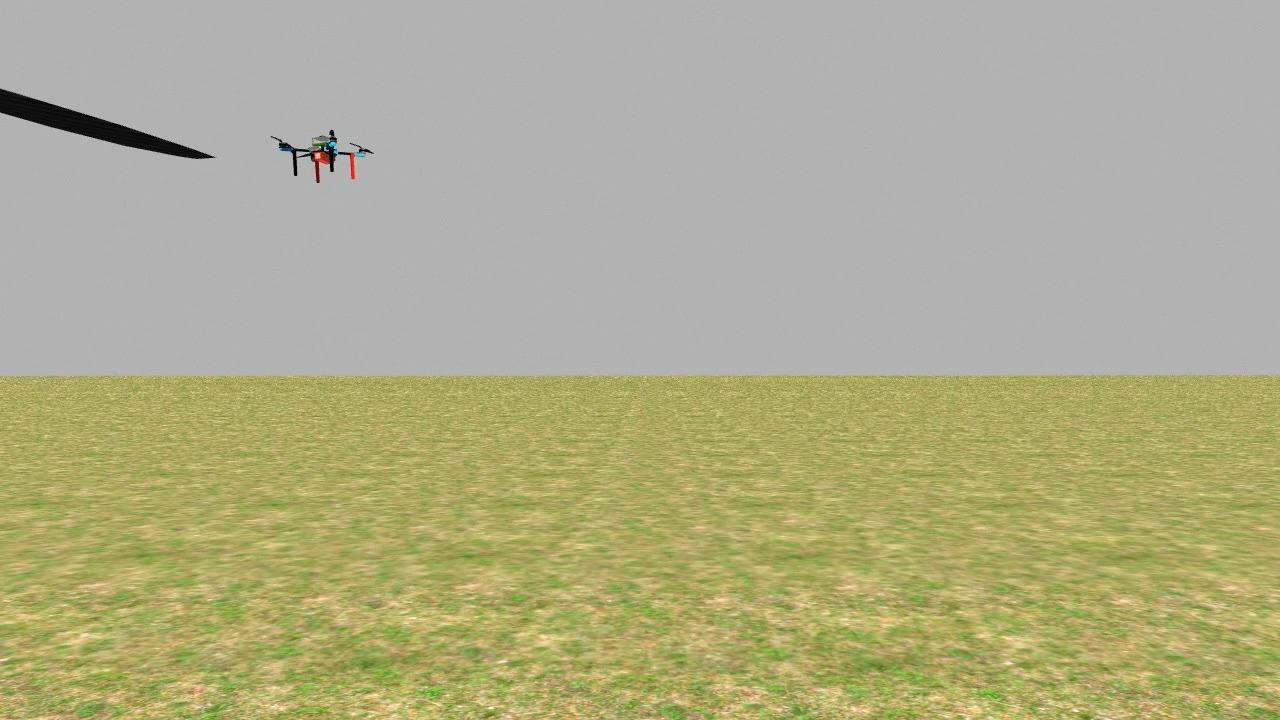UAV: (255, 117, 392, 202)
